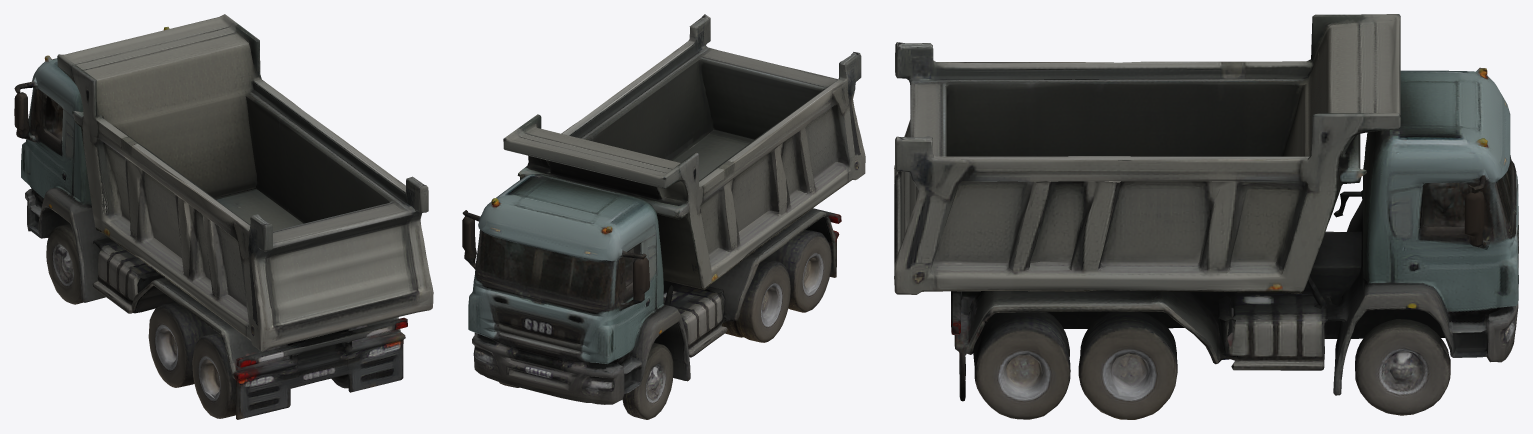
Rendered from Truck.gltf.
3 views of the same model, side by side, from view 1: azimuth 30°, elevation 25°; view 2: azimuth 150°, elevation 25°; view 3: azimuth 270°, elevation 25° (orthographic). The views are drawn at different scales.
Parts seen in each view (by area): view 1: GeneratedMesh; view 2: GeneratedMesh; view 3: GeneratedMesh.
Part boxes in pixels (x1,y1,x2,y2): GeneratedMesh: [14, 14, 433, 419]; GeneratedMesh: [462, 14, 865, 419]; GeneratedMesh: [894, 14, 1518, 419].
Size of the model in its own units: 0.8263 by 1.04 by 1.91.
Materials: 1 (1 with a texture image).
